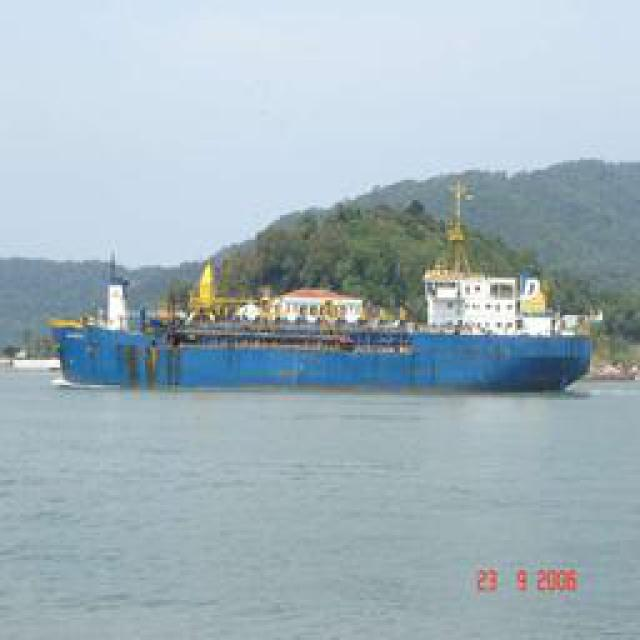Ship: (58, 261, 603, 394)
